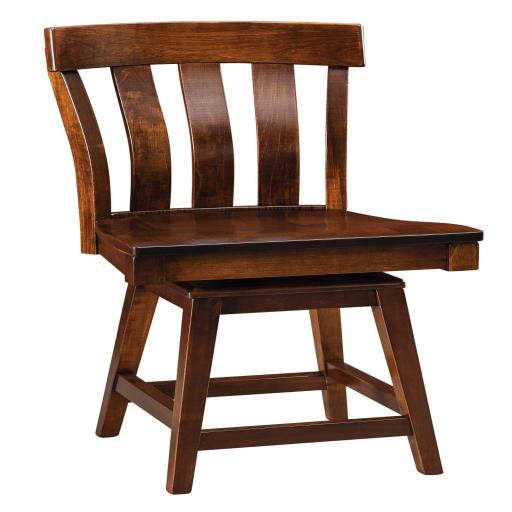chair: (28, 26, 488, 491)
